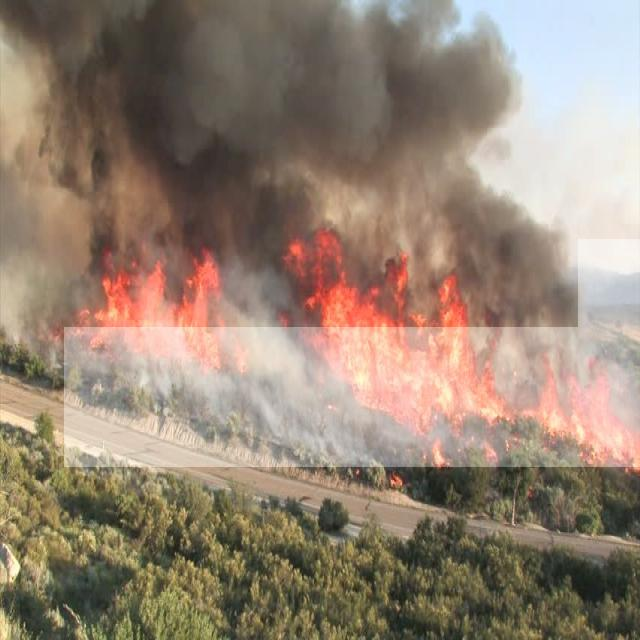Fire: (64, 239, 640, 467)
Smoke: (0, 0, 578, 327)
